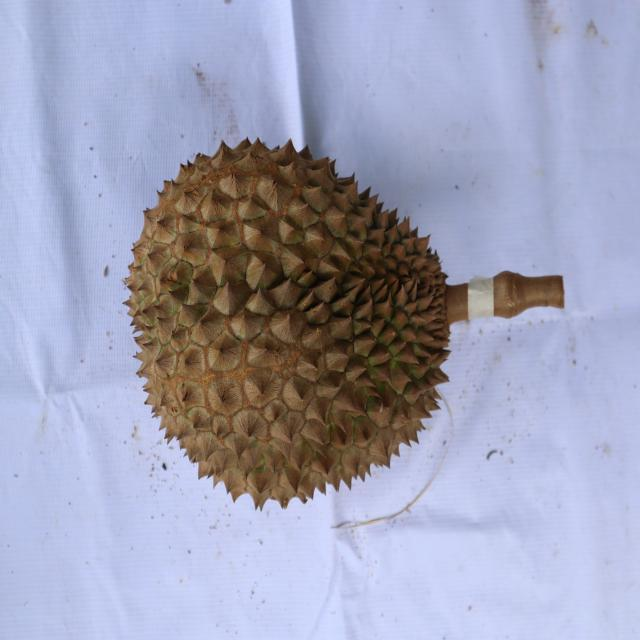mature: (123, 138, 452, 517)
